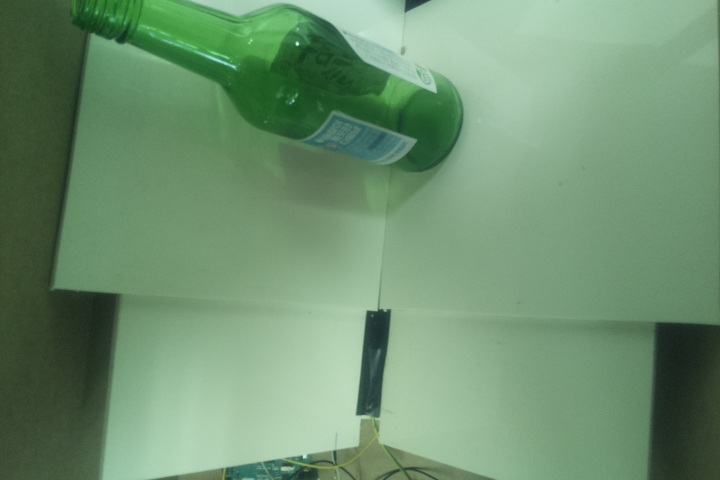soju: (67, 1, 467, 176)
